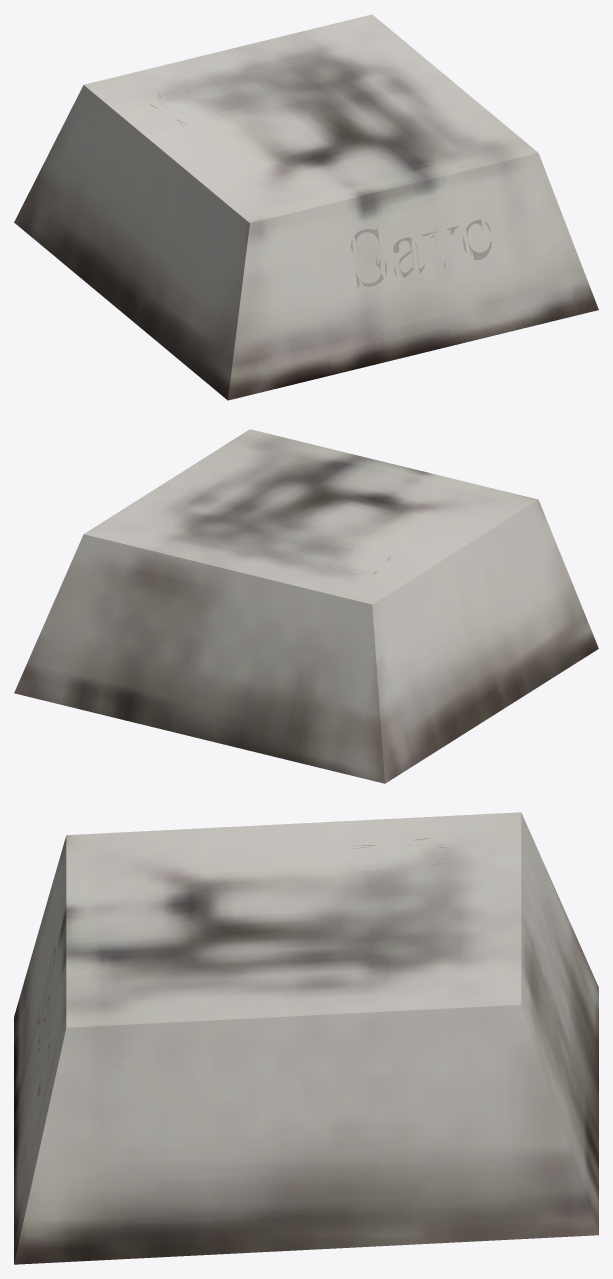
File: link_5__key-11.glb
The picture shows the model from 3 angles, top to bottom: view 1: azimuth 30°, elevation 25°; view 2: azimuth 150°, elevation 25°; view 3: azimuth 270°, elevation 25°; orthographic projection. The views are drawn at different scales.
Visible parts, largest first — view 1: geometry_0; view 2: geometry_0; view 3: geometry_0.
Boxes of the visible parts, box(x1,y1,x2,y2) form: geometry_0: box(14, 14, 598, 400); geometry_0: box(14, 429, 598, 783); geometry_0: box(14, 812, 598, 1264).
Bounding box in the file's own units: 0.0719 × 0.0315 × 0.0718.
1 material, 1 textured.
